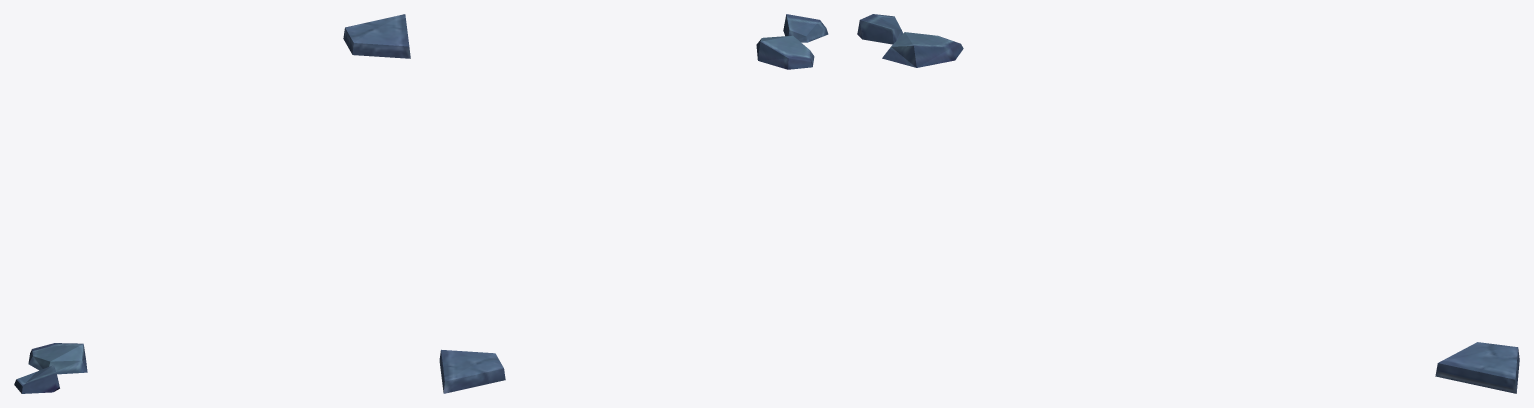
File: Area14_20.fbx
3 views of the same model, side by side, from view 1: azimuth 30°, elevation 25°; view 2: azimuth 210°, elevation 25°; view 3: azimuth 270°, elevation 25° (orthographic). The views are drawn at different scales.
Visible parts, largest first — view 1: Area14_20; view 2: Area14_20; view 3: Area14_20.
Boxes of the visible parts, bbox=[...] form: Area14_20: bbox=[14, 14, 410, 393]; Area14_20: bbox=[439, 14, 828, 393]; Area14_20: bbox=[857, 14, 1519, 393].
Bounding box in the file's own units: 1800 × 52.02 × 1363.
1 material, 1 textured.
